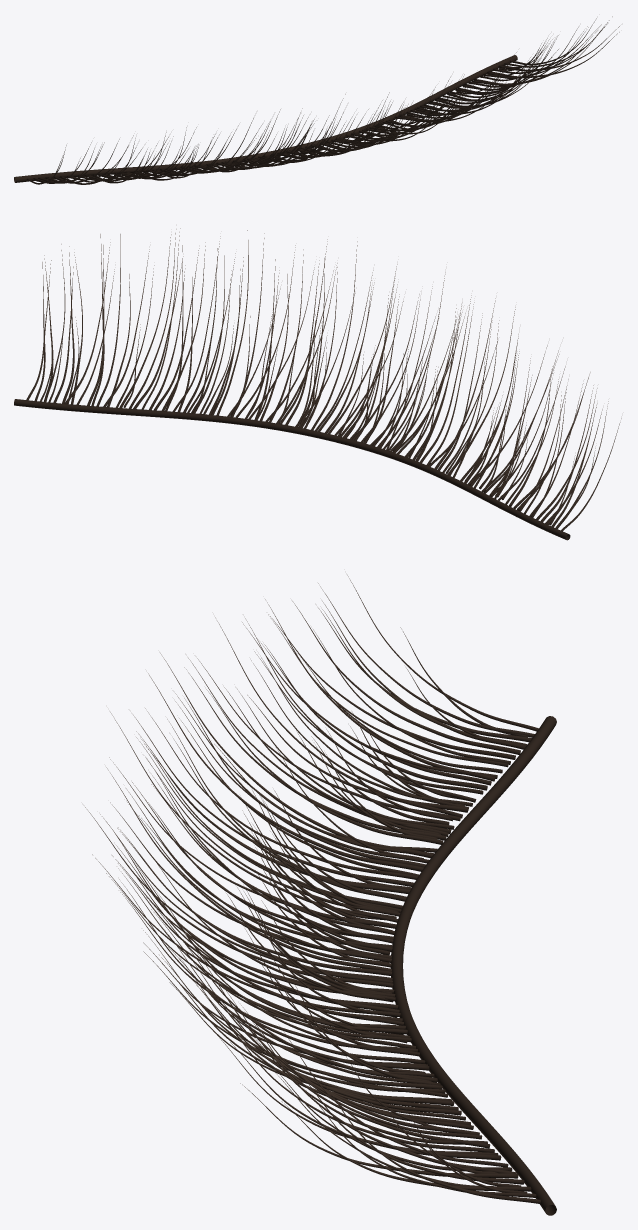
Rendered from natural_right.glb.
The picture shows the model from 3 angles, top to bottom: view 1: azimuth 30°, elevation 25°; view 2: azimuth 150°, elevation 25°; view 3: azimuth 270°, elevation 25°; orthographic projection. The views are drawn at different scales.
Parts seen in each view (by area): view 1: natural_right; view 2: natural_right; view 3: natural_right.
Part boxes in pixels (bbox=[...]): natural_right: bbox=[14, 16, 619, 184]; natural_right: bbox=[14, 228, 621, 540]; natural_right: bbox=[85, 575, 556, 1215].
Bounding box in the file's own units: 3.25 × 0.6827 × 1.23.
